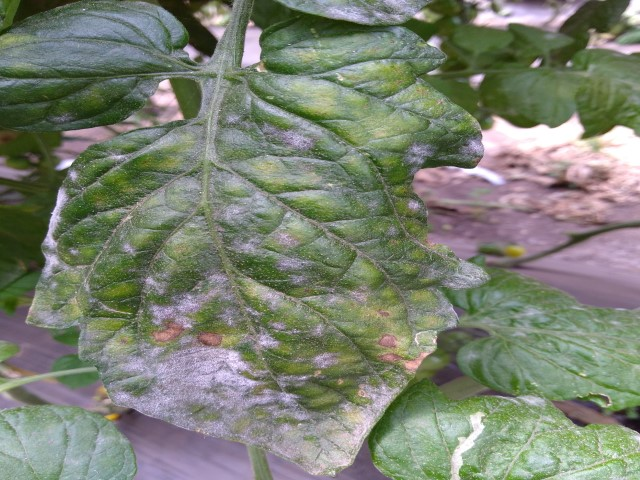oidio: (130, 344, 302, 438), (149, 276, 247, 336), (38, 185, 72, 282), (250, 319, 292, 358), (274, 260, 313, 290), (308, 348, 337, 370), (231, 235, 262, 255)
